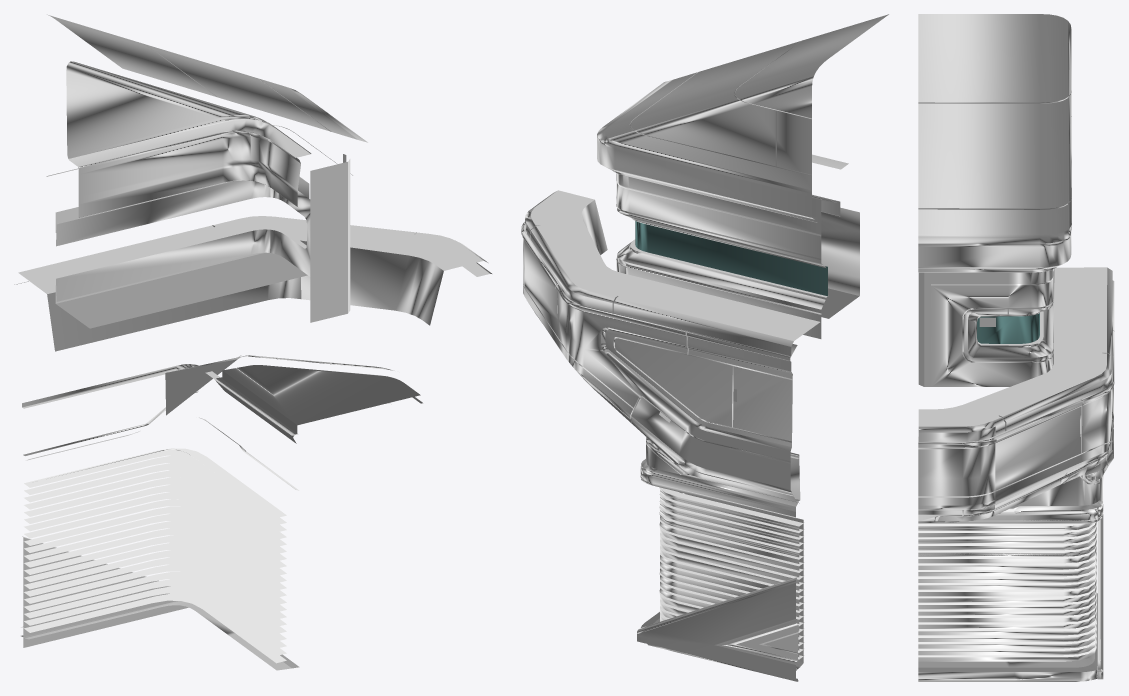
File: promenade_facade_wall_002_e.glb
3 renders of one model, left to right at view 1: azimuth 30°, elevation 25°; view 2: azimuth 150°, elevation 25°; view 3: azimuth 270°, elevation 25°, orthographic. The views are drawn at different scales.
Bounding box in the file's own units: 8.57 × 14.48 × 4.35.
